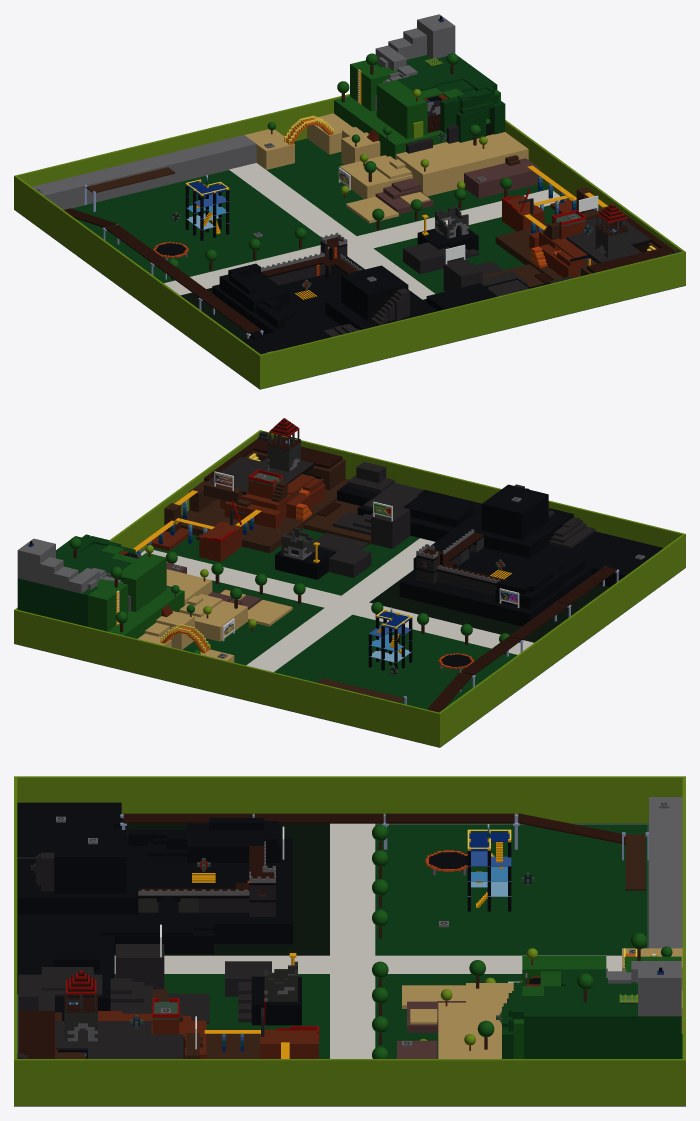
File: Crossroads.obj
3 renders of one model, top to bottom at view 1: azimuth 30°, elevation 25°; view 2: azimuth 150°, elevation 25°; view 3: azimuth 270°, elevation 25°, orthographic. The views are drawn at different scales.
Visible parts, largest first — view 1: FrontWall1, TowerPlatform1, LeftWall1, BrickyardBase1, BackLedge1, BackWall1, SmoothBlockModel1149, FrontBackPath1, HousePlatform1, RightWall1, SmoothBlockModel21, SmoothBlockModel25 (+33 smaller); view 2: BackWall1, TowerPlatform1, LeftWall1, FrontWall1, FrontBackPath1, HousePlatform1, SmoothBlockModel35, BrickyardBase1, CastlePlatform1, SmoothBlockModel21, SmoothBlockModel918, SmoothBlockModel25 (+40 smaller); view 3: RightWall1, TowerPlatform1, LeftWall1, SmoothBlockModel1134, CastlePlatform1, FrontBackPath1, LeftPath1, BackLedge1, SmoothBlockModel21, SmoothBlockModel35, HousePlatform1, SmoothBlockModel22 (+40 smaller).
Part boxes in pixels (<box>): FrontWall1: <box>258,251,685,389</box>; TowerPlatform1: <box>72,170,320,283</box>; LeftWall1: <box>15,176,260,387</box>; BrickyardBase1: <box>267,138,548,235</box>; BackLedge1: <box>32,135,256,209</box>; BackWall1: <box>14,94,349,209</box>; SmoothBlockModel1149: <box>395,132,528,196</box>; FrontBackPath1: <box>229,163,434,299</box>; HousePlatform1: <box>374,205,554,293</box>; RightWall1: <box>505,120,683,251</box>; SmoothBlockModel21: <box>341,265,408,321</box>; SmoothBlockModel25: <box>241,294,339,346</box>; BackWall1: <box>14,609,441,747</box>; TowerPlatform1: <box>274,614,517,709</box>; LeftWall1: <box>439,534,684,745</box>; FrontWall1: <box>259,430,685,567</box>; FrontBackPath1: <box>246,538,435,672</box>; HousePlatform1: <box>153,528,419,595</box>; SmoothBlockModel35: <box>399,569,558,626</box>; BrickyardBase1: <box>182,580,324,665</box>; CastlePlatform1: <box>369,570,610,642</box>; SmoothBlockModel21: <box>482,484,548,540</box>; SmoothBlockModel918: <box>181,479,349,553</box>; SmoothBlockModel25: <box>504,531,629,599</box>; RightWall1: <box>17,1059,682,1105</box>; TowerPlatform1: <box>375,825,647,955</box>; LeftWall1: <box>17,776,682,823</box>; SmoothBlockModel1134: <box>524,1003,681,1058</box>; CastlePlatform1: <box>114,823,329,955</box>; FrontBackPath1: <box>114,955,621,973</box>; LeftPath1: <box>330,823,375,955</box>; BackLedge1: <box>649,797,682,948</box>; SmoothBlockModel21: <box>54,830,126,893</box>; SmoothBlockModel35: <box>214,837,292,944</box>; HousePlatform1: <box>114,974,329,1058</box>; SmoothBlockModel22: <box>17,858,138,914</box>.
Size of the model in its own units: 400 by 87.6 by 400.
38 materials, 5 textured.
